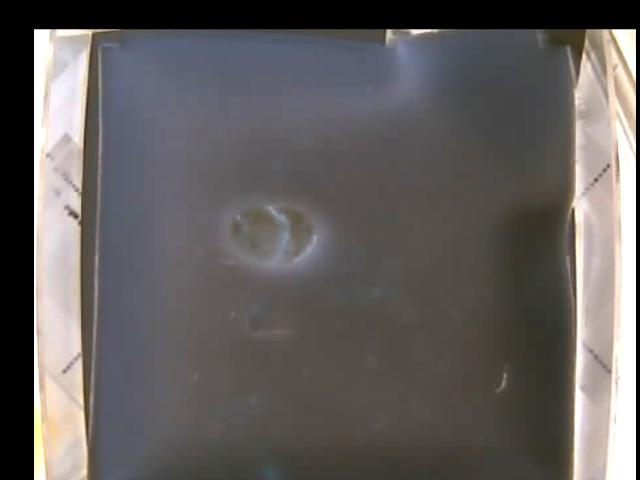Pebble: (228, 204, 319, 263)
